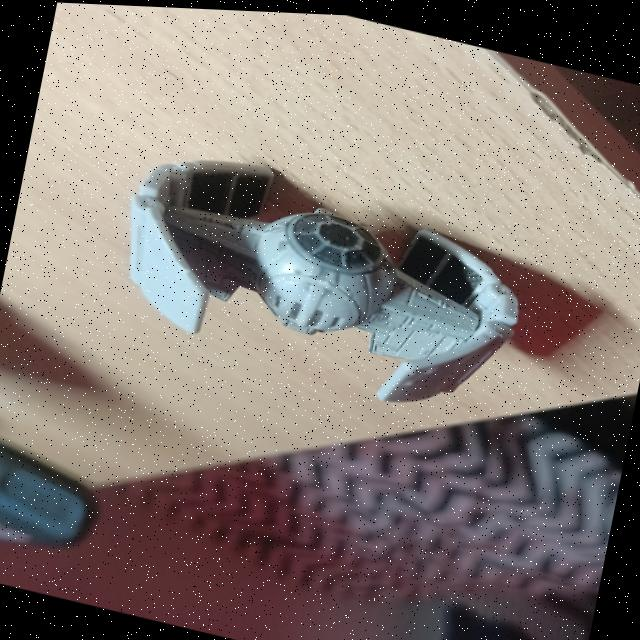tie fighter: (130, 158, 517, 397)
